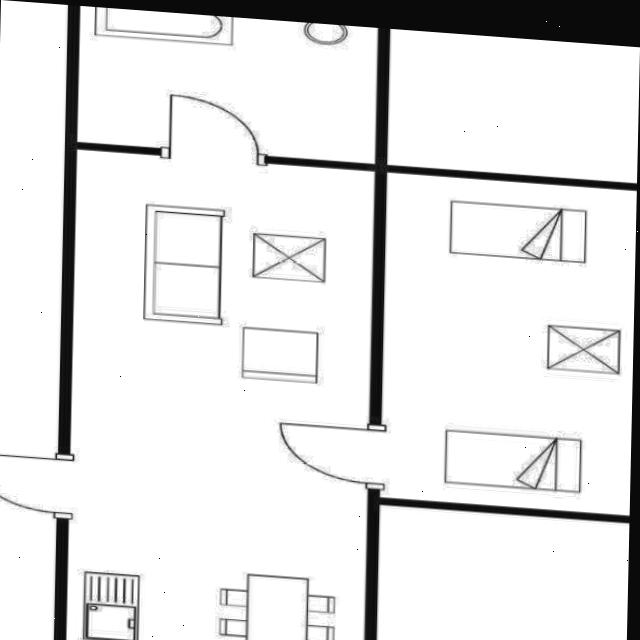room: (65, 149, 374, 640), (379, 172, 637, 516), (69, 6, 384, 164)
